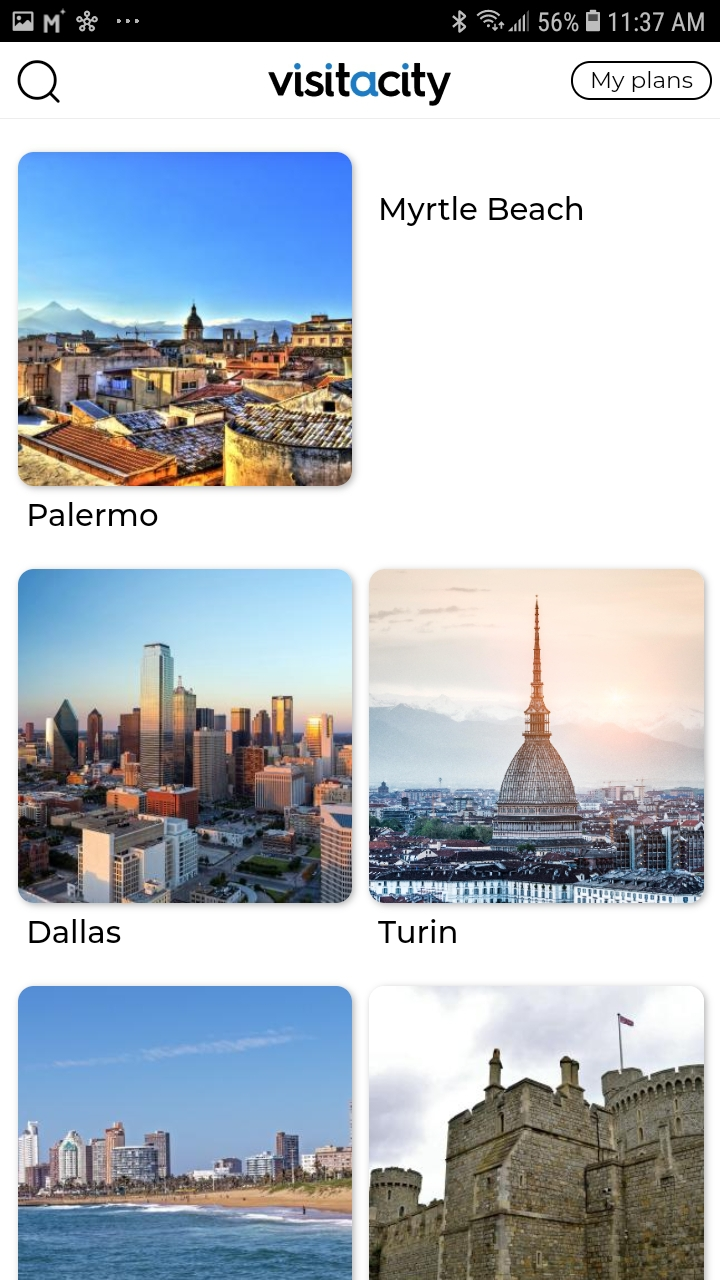Icon: (17, 61, 61, 105)
Image: (369, 569, 705, 904), (18, 152, 353, 486), (19, 569, 353, 904), (369, 986, 705, 1280), (19, 986, 353, 1280), (268, 64, 452, 108)
Text: (381, 196, 583, 227), (30, 503, 159, 528), (30, 919, 122, 944), (378, 918, 457, 944)
TextButton: (571, 62, 713, 102)
UpperTaskBar: (1, 1, 720, 43)
